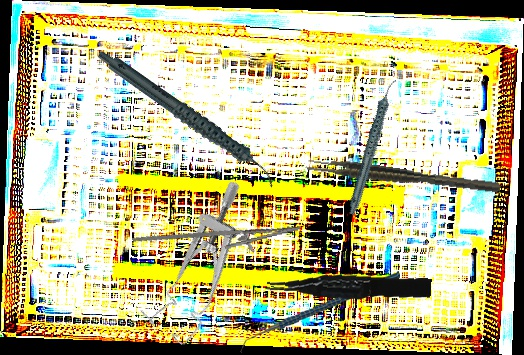Chopper: (235, 271, 405, 355)
Handpiece: (96, 19, 279, 218), (322, 78, 424, 216)
Needle Holder: (131, 205, 304, 275)
Speculum: (127, 178, 285, 350)
Tissue Forceps: (304, 155, 502, 199), (266, 267, 432, 305)
